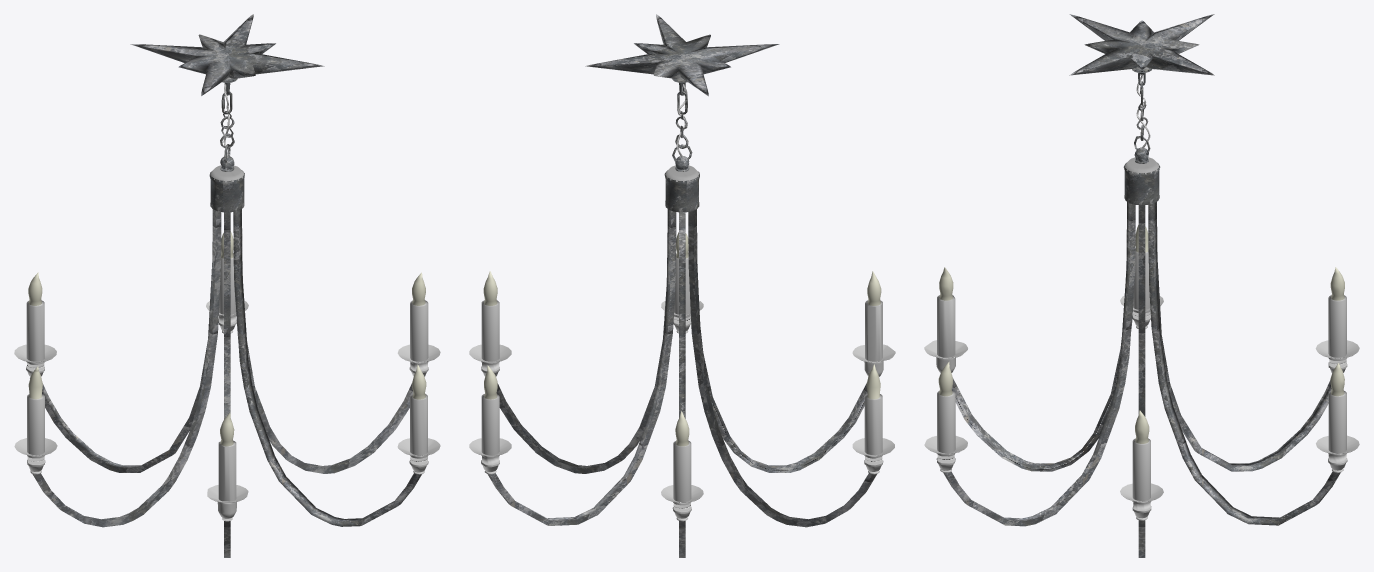
The model's file is Chandelier.fbx.
The picture shows the model from 3 angles, left to right: view 1: azimuth 30°, elevation 25°; view 2: azimuth 150°, elevation 25°; view 3: azimuth 270°, elevation 25°; orthographic projection. The views are drawn at different scales.
Parts seen in each view (by area): view 1: Line008; view 2: Line008; view 3: Line008.
Boxes of the visible parts, x1,y1,x2,y2 form: Line008: (14, 14, 440, 557); Line008: (469, 14, 895, 557); Line008: (924, 14, 1359, 557).
Size of the model in its own units: 8.71 by 8.77 by 7.66.
